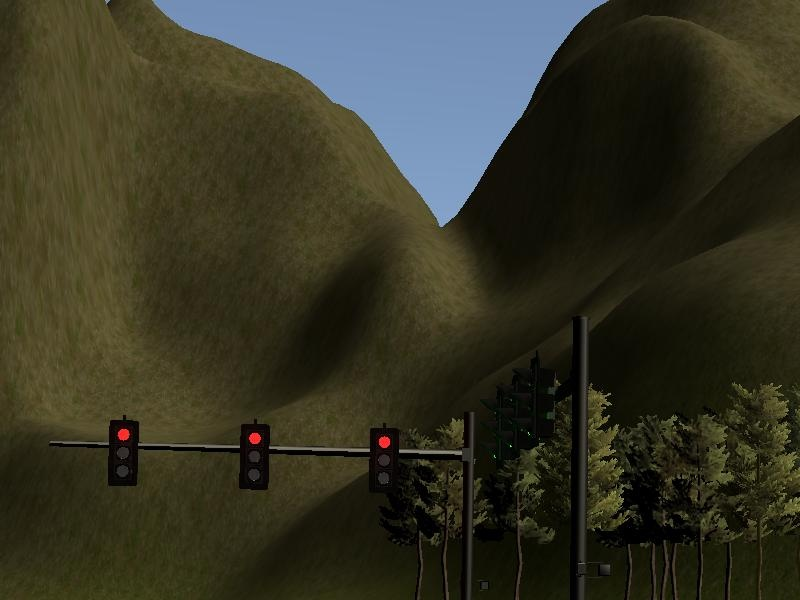red: (357, 418, 409, 499), (100, 412, 146, 493), (233, 415, 275, 496)
